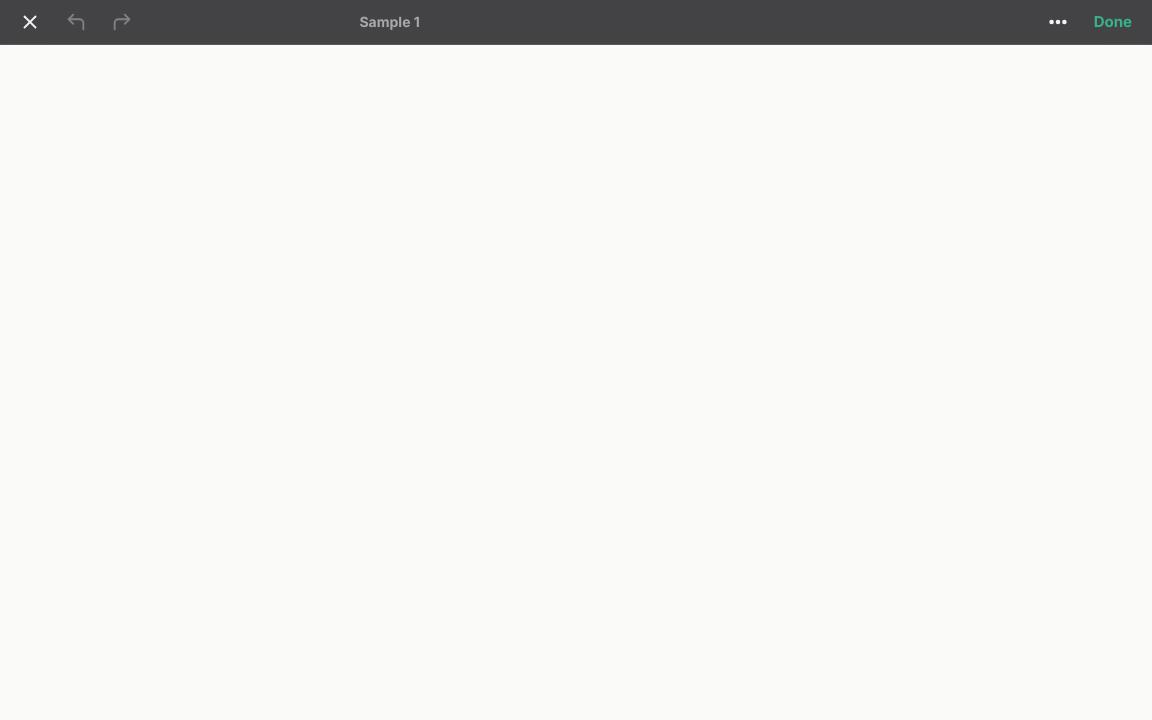
Test: D8-F11: the overflow menu is a real popover › opens the appearance panel, which is the only way to reach six settings
The width and height of the screenshot is (1152, 720).
Click the button named "More options" at (1058, 22), box [1036,0,1080,44]
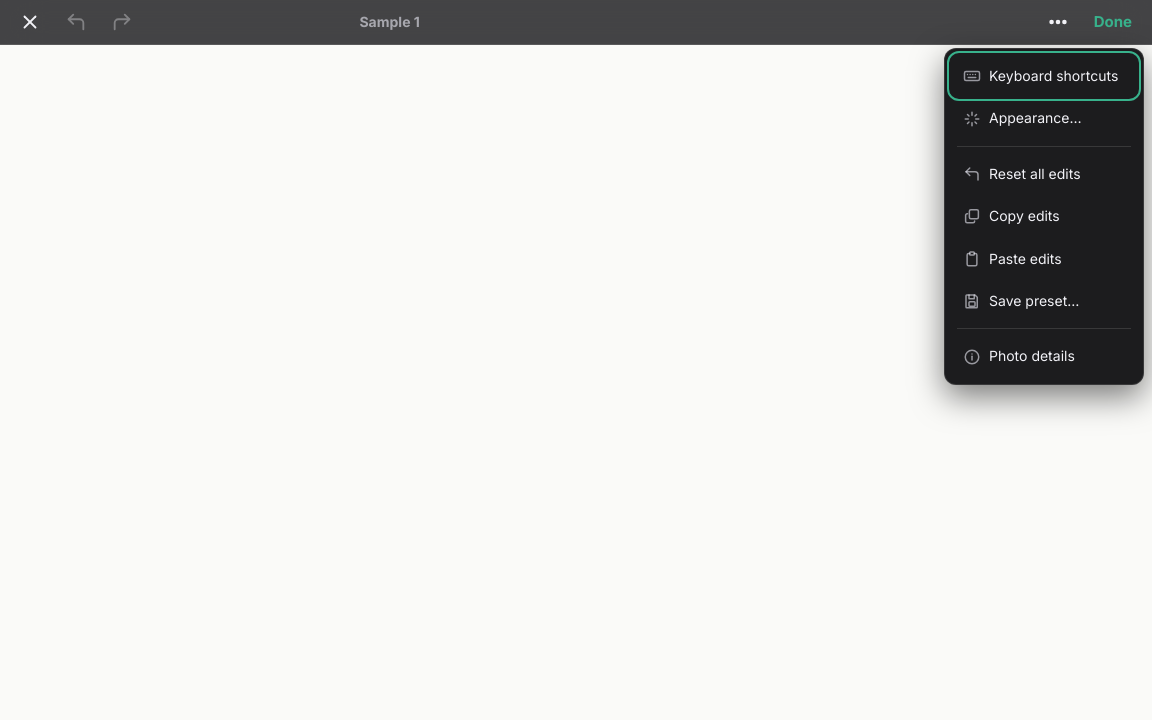
Check: the menu item "Appearance…" is shown
Click the menu item "Appearance…" at (1044, 119), box [951,97,1137,140]
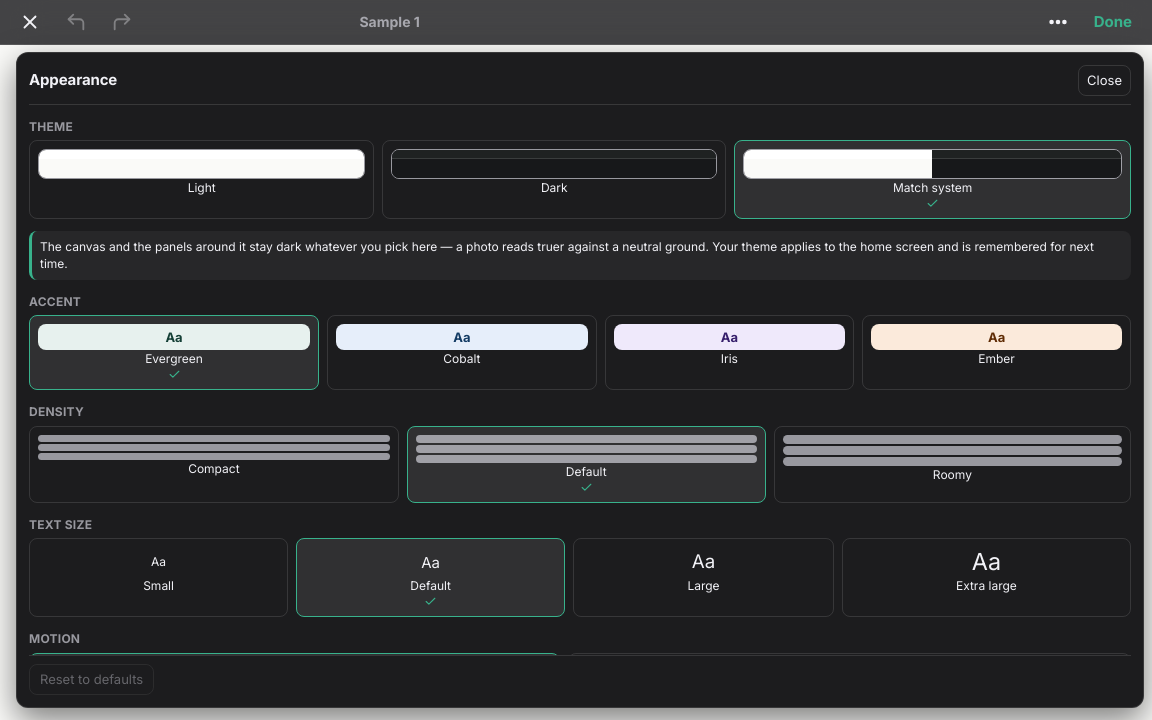
Check: the menu is gone
